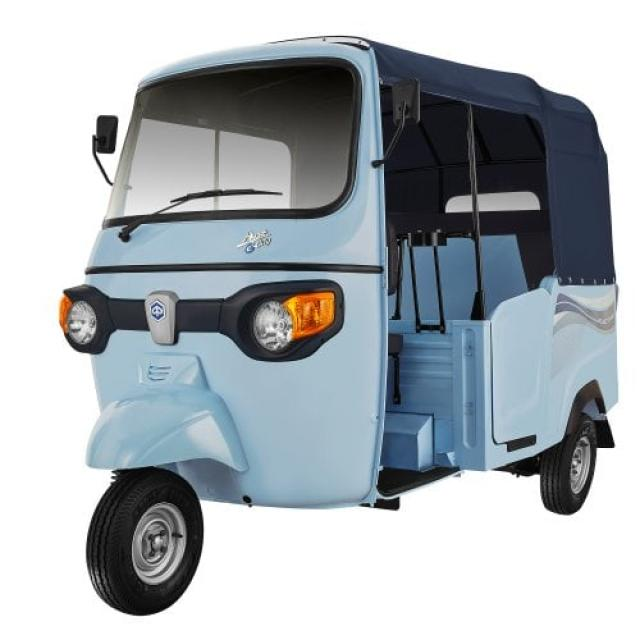autorickshaw: (60, 36, 618, 613)
